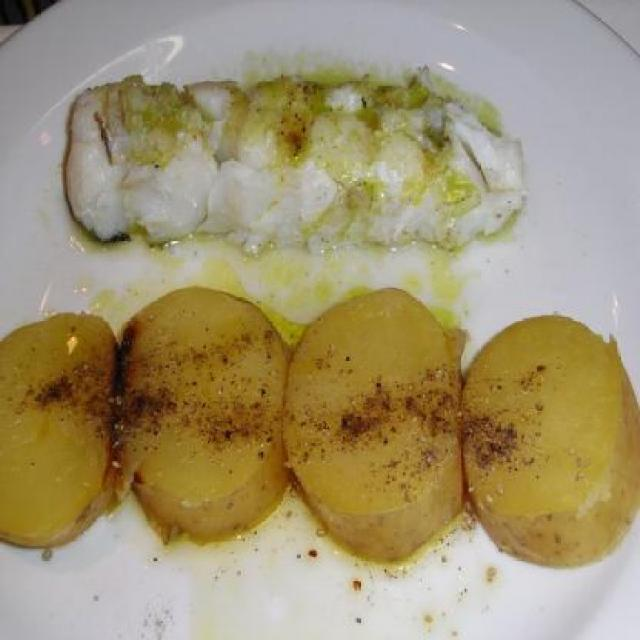Potato: (282, 286, 461, 563), (116, 282, 293, 544), (460, 313, 640, 569), (0, 310, 118, 552)
